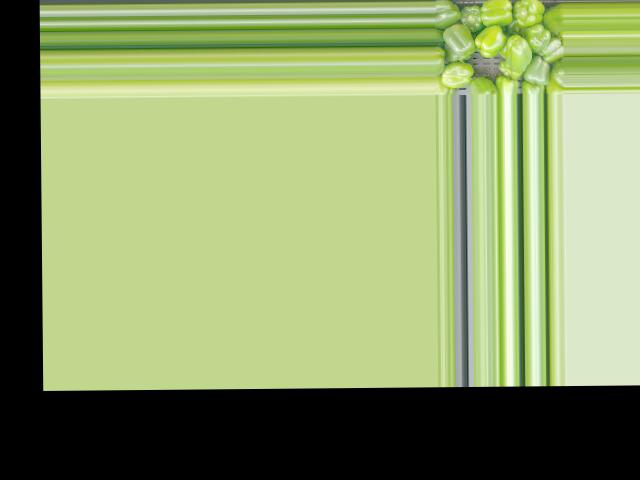bell_pepper: (543, 11, 564, 38)
